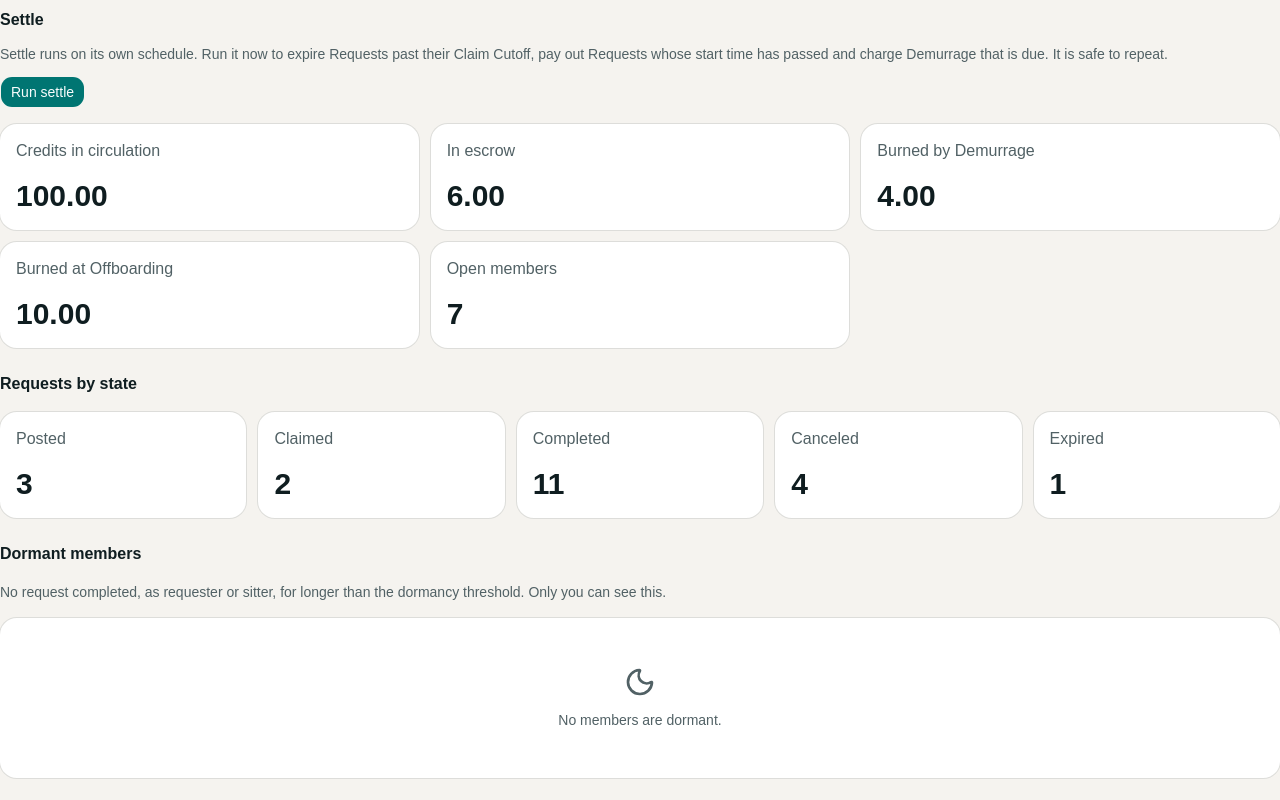
Test: PoolAdminPage › Run settle › asks for confirmation, runs Settle and reports what it did
Click the button "Run settle" at (42, 92), box [0, 76, 85, 108]
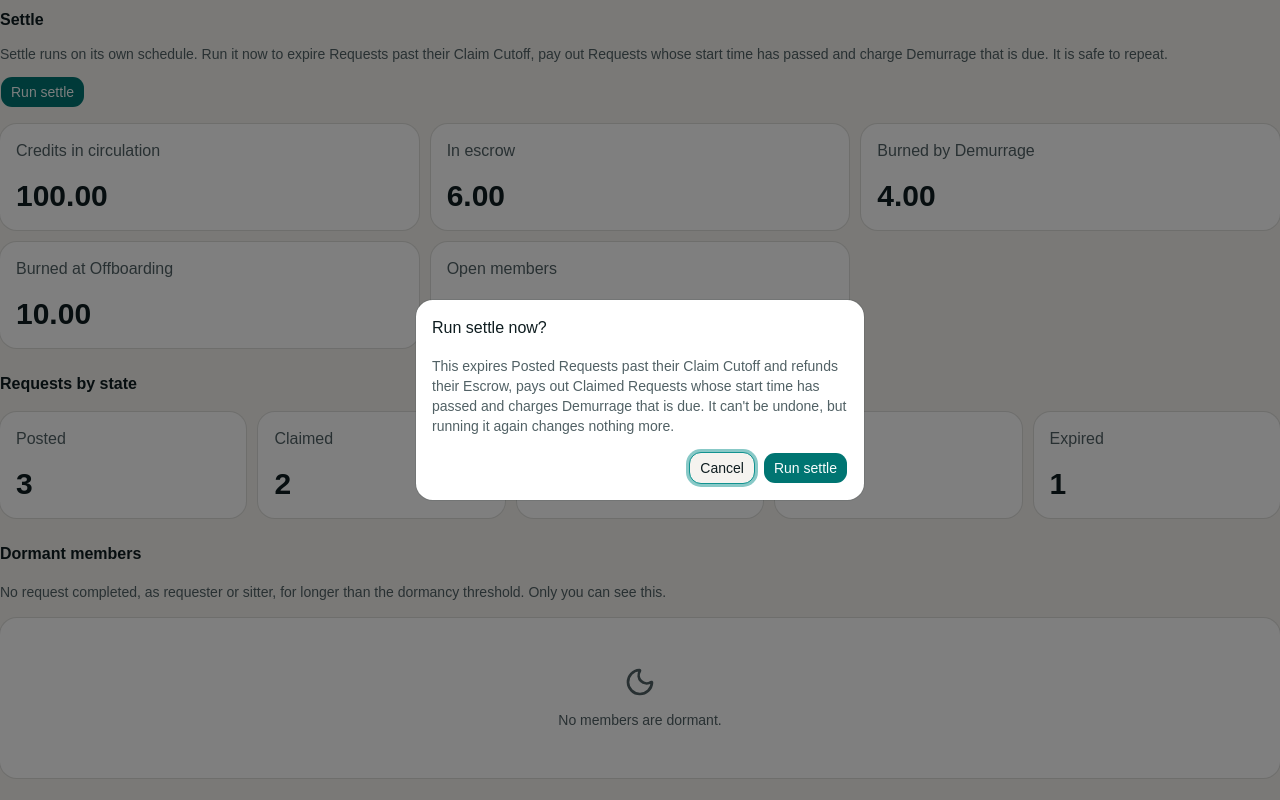
Click the button "Run settle" at (806, 468), box [763, 452, 848, 484]
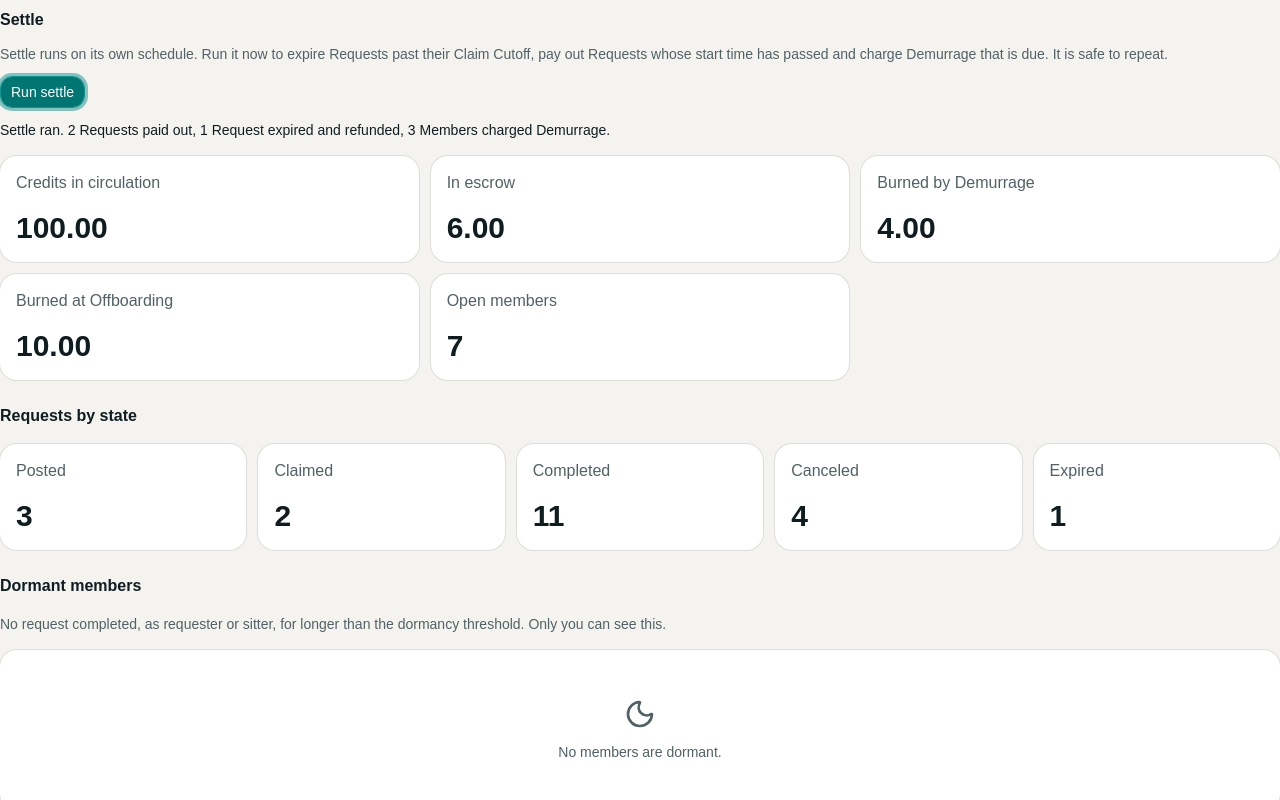
Expected: the text "Settle ran. 2 Requests paid out, 1 Request expired and refunded, 3 Members charged Demurrage." is shown, [0, 122, 610, 138]
